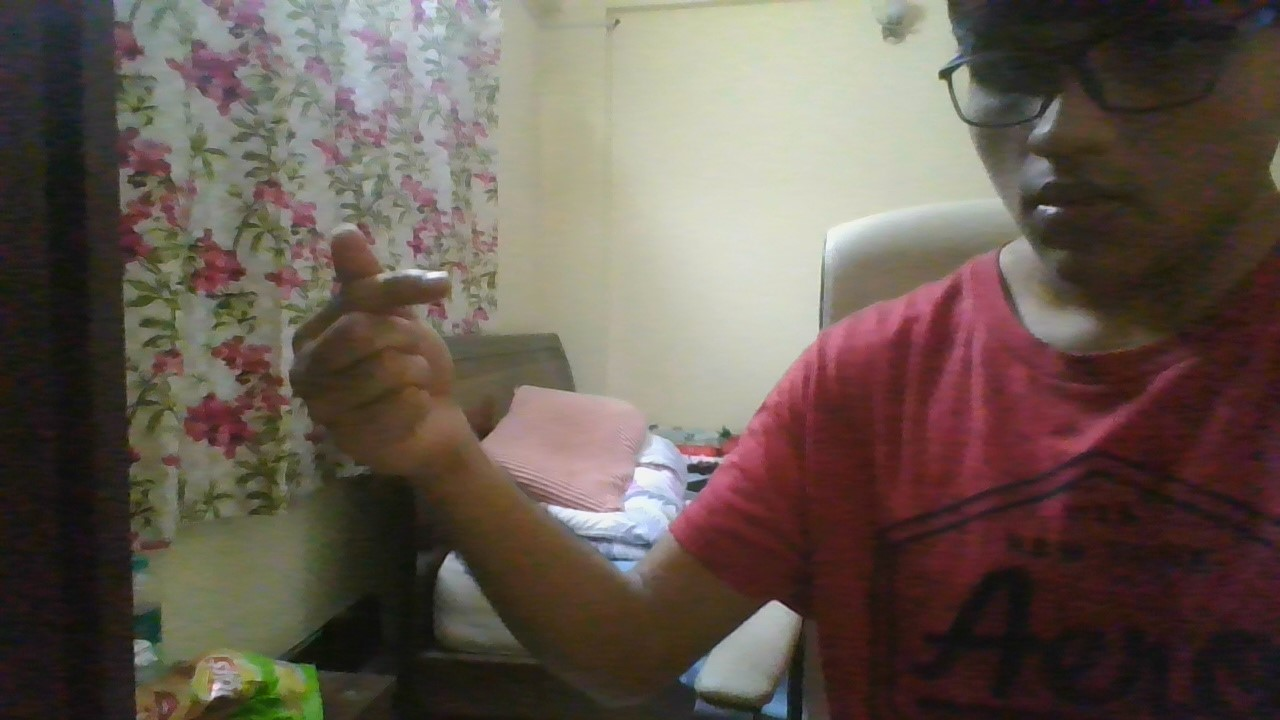eof: (290, 227, 465, 477)
